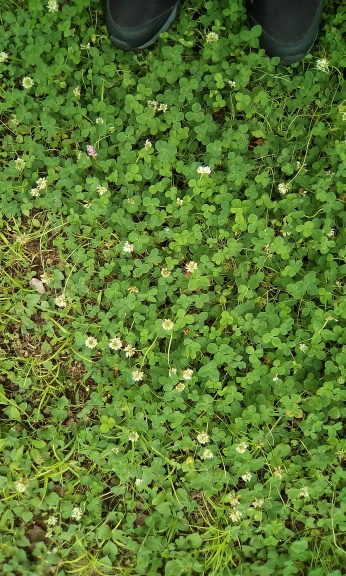4leaf: (176, 294, 193, 309)
